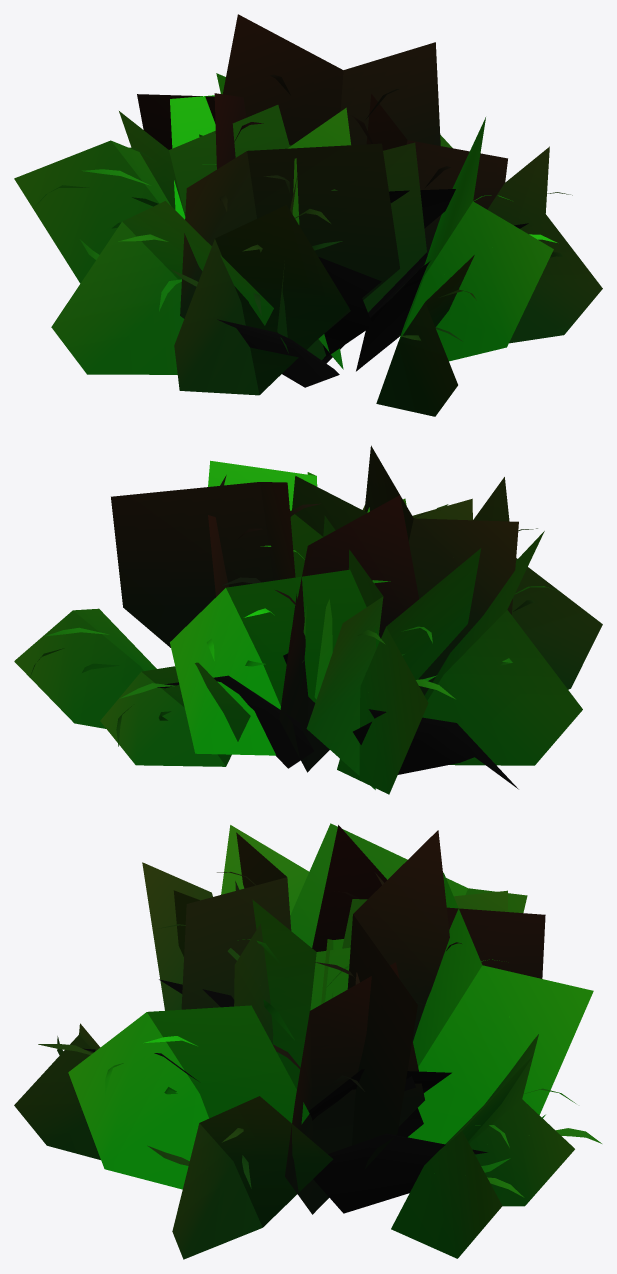
File: Grass_Long_3_Mesh.fbx
The picture shows the model from 3 angles, top to bottom: view 1: azimuth 30°, elevation 25°; view 2: azimuth 150°, elevation 25°; view 3: azimuth 270°, elevation 25°; orthographic projection. The views are drawn at different scales.
Parts seen in each view (by area): view 1: Grass_Long_3_LOD0; view 2: Grass_Long_3_LOD0; view 3: Grass_Long_3_LOD0.
Part boxes in pixels (box(x1,y1,x2,y2)): Grass_Long_3_LOD0: box(14, 14, 602, 416); Grass_Long_3_LOD0: box(14, 445, 602, 794); Grass_Long_3_LOD0: box(14, 823, 601, 1259).
Size of the model in its own units: 222 by 137 by 209.
